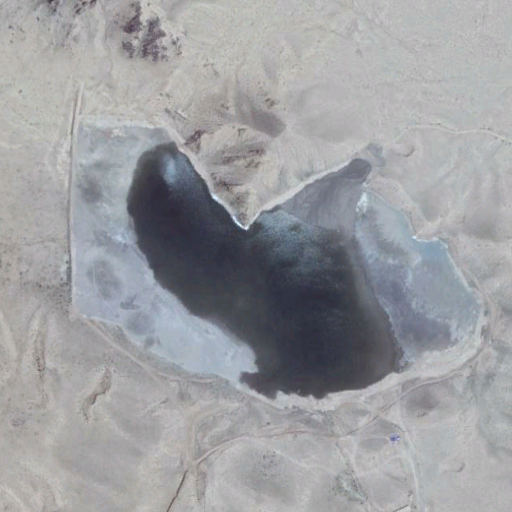tp: (65, 117, 490, 416)
